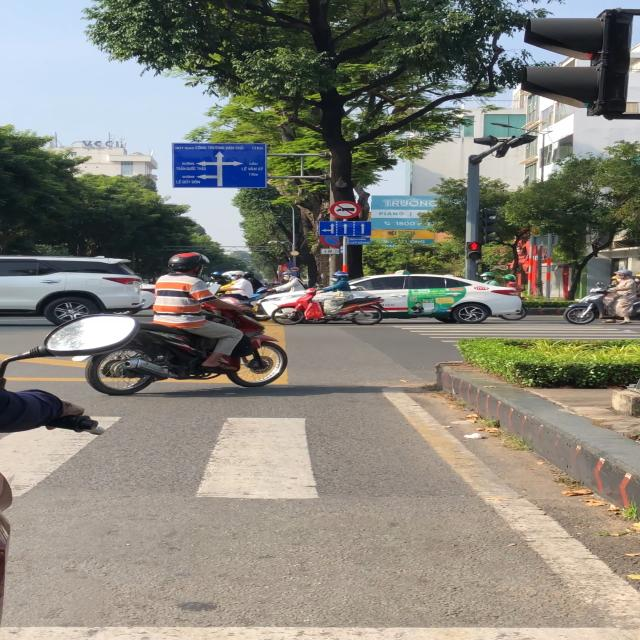Bien bao cam xe so-mi ro-mooc: (329, 200, 364, 219)
